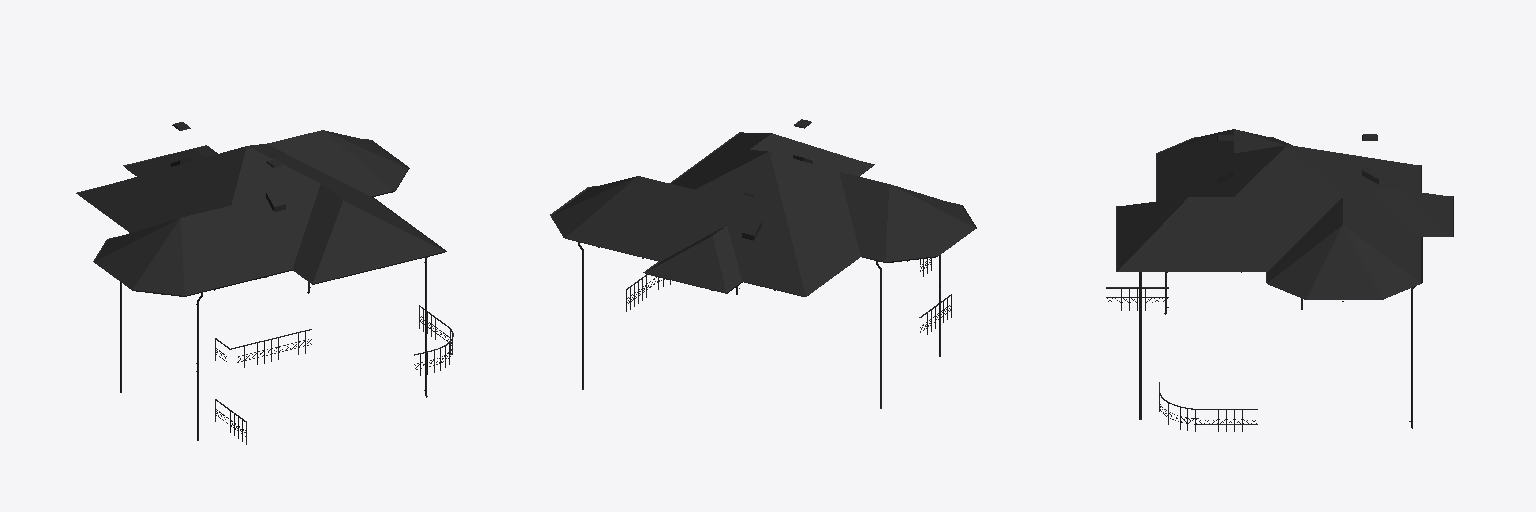
The model's file is OutsideEnv.obj.
3 views of the same model, side by side, from view 1: azimuth 30°, elevation 25°; view 2: azimuth 150°, elevation 25°; view 3: azimuth 270°, elevation 25° (orthographic).
Parts seen in each view (by area): view 1: Body; view 2: Body; view 3: Body.
Boxes of the visible parts, <box> form: Body: <box>76,122,453,444</box>; Body: <box>550,119,976,408</box>; Body: <box>1106,129,1453,431</box>.
Bounding box in the file's own units: 9.89 × 6.51 × 8.94.